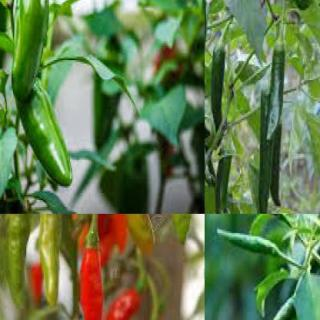green_chilli: (12, 86, 76, 188), (12, 0, 52, 99), (37, 214, 68, 309), (216, 225, 279, 262), (8, 214, 30, 311), (265, 49, 288, 140), (257, 90, 273, 213), (210, 42, 225, 136), (216, 152, 235, 213), (270, 126, 282, 207), (167, 214, 193, 247), (263, 296, 295, 320), (204, 0, 212, 88)
